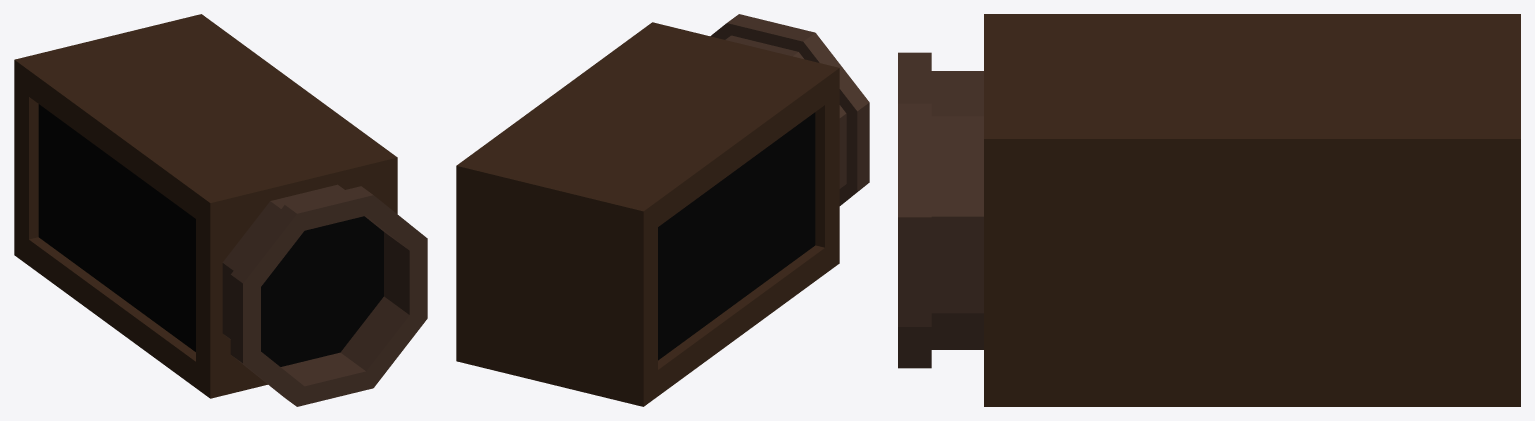
The model's file is DisplayGauge.fbx.
3 renders of one model, left to right at view 1: azimuth 30°, elevation 25°; view 2: azimuth 150°, elevation 25°; view 3: azimuth 270°, elevation 25°, orthographic. The views are drawn at different scales.
Parts seen in each view (by area): view 1: Cylinder.022; view 2: Cylinder.022; view 3: Cylinder.022.
Boxes of the visible parts, x1=… form: Cylinder.022: x1=14, y1=14, x2=427, y2=406; Cylinder.022: x1=456, y1=14, x2=869, y2=406; Cylinder.022: x1=898, y1=14, x2=1520, y2=406.
Bounding box in the file's own units: 37.23 × 37.16 × 78.32.
